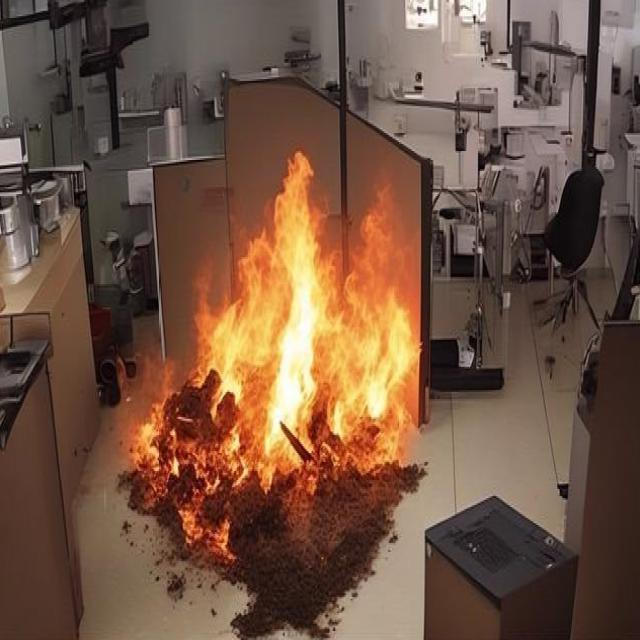smoke: (198, 156, 420, 474)
